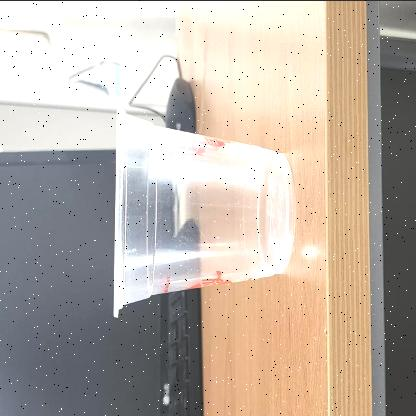Others: (112, 102, 296, 318)
